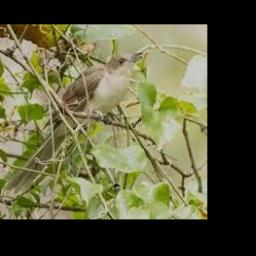Cuckoo: (4, 51, 142, 195)
